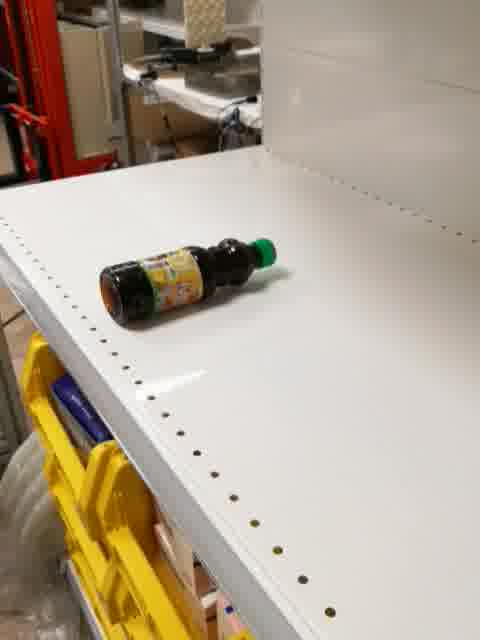cookingoil: (96, 233, 279, 328)
